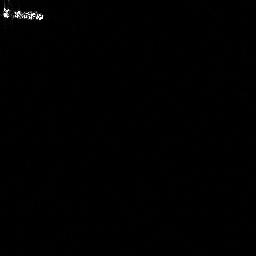ship: (3, 6, 44, 22)
